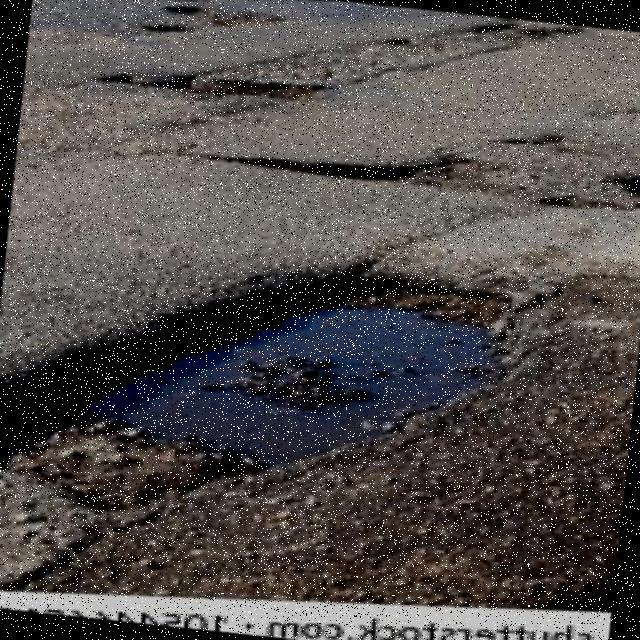Pothole: (0, 277, 508, 465)
